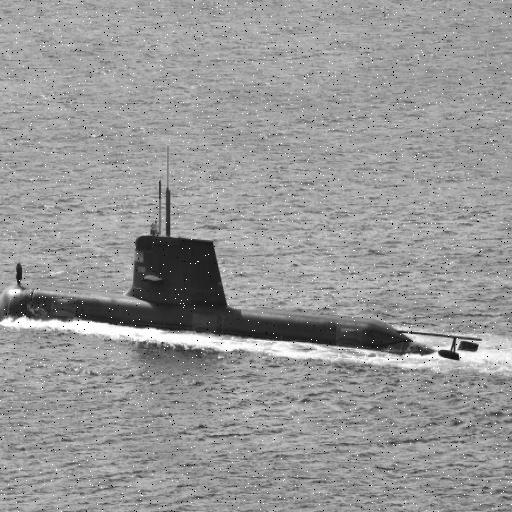submarine: (1, 139, 489, 365)
